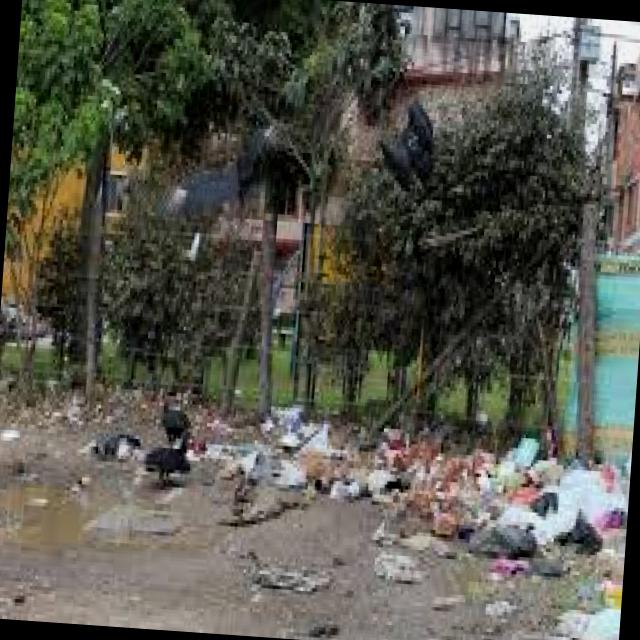garbage: (265, 390, 634, 586)
